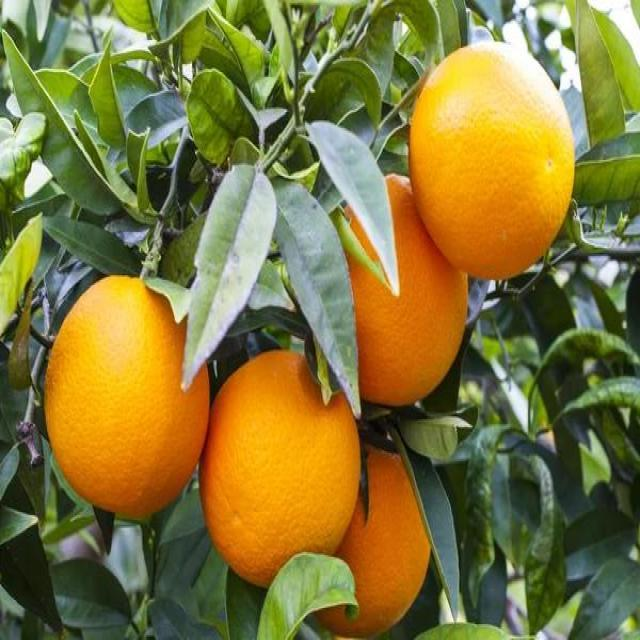Jeruk Sudah Matang: (412, 39, 575, 284), (46, 271, 210, 514), (202, 350, 362, 592), (312, 171, 469, 408), (300, 428, 434, 638)
